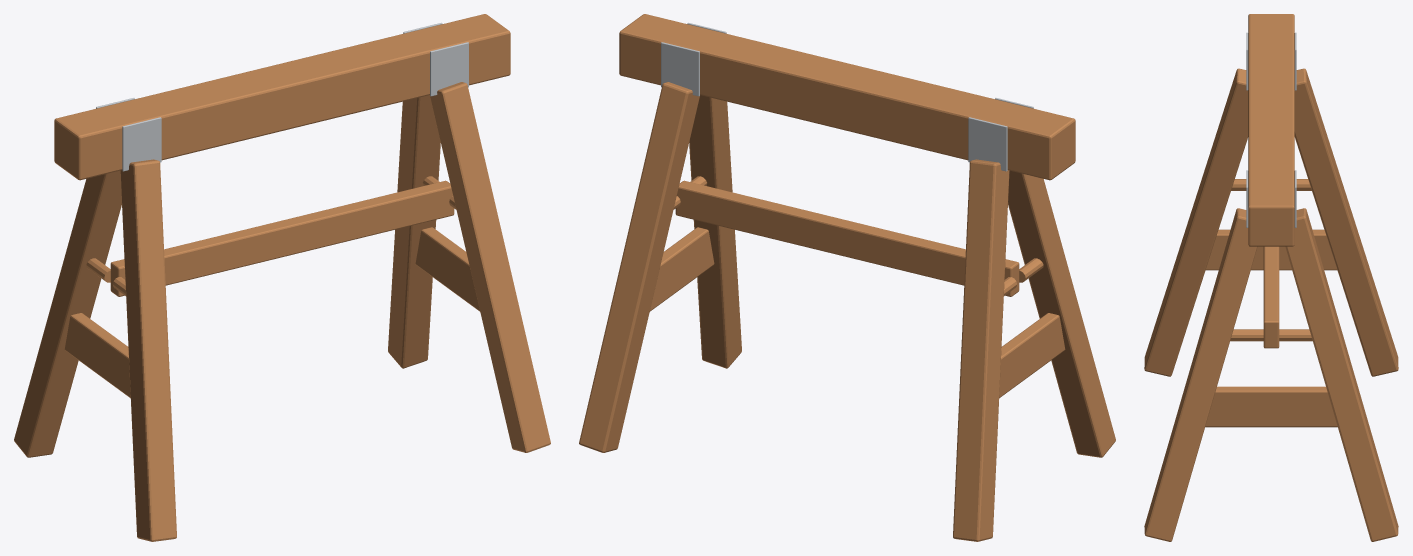
File: hh_cat_sawhorse.glb
3 views of the same model, side by side, from view 1: azimuth 30°, elevation 25°; view 2: azimuth 150°, elevation 25°; view 3: azimuth 270°, elevation 25° (orthographic). The views are drawn at different scales.
Visible parts, largest first — view 1: beam, leg, leg.002, stretcher, leg.001, leg.003, brace, brace.001, bracket, bracket.002; view 2: beam, leg.001, leg.003, stretcher, leg, leg.002, brace, brace.001, bracket.001, bracket.003; view 3: beam, leg.002, leg.003, leg, leg.001, brace.001, stretcher, brace, strut.002, strut.003.
Boxes of the visible parts, <box> form: beam: <box>54,14,510,180</box>; leg: <box>120,159,176,541</box>; leg.002: <box>430,82,550,452</box>; stretcher: <box>110,180,454,296</box>; leg.001: <box>14,170,121,457</box>; leg.003: <box>388,95,440,368</box>; brace: <box>64,313,130,397</box>; brace.001: <box>415,227,480,311</box>; bracket: <box>122,117,161,171</box>; bracket.002: <box>430,42,468,96</box>; beam: <box>619,14,1075,180</box>; leg.001: <box>953,159,1009,541</box>; leg.003: <box>579,82,699,452</box>; stretcher: <box>675,180,1019,296</box>; leg: <box>1008,170,1115,457</box>; leg.002: <box>689,95,741,368</box>; brace: <box>999,313,1065,397</box>; brace.001: <box>649,227,714,311</box>; bracket.001: <box>968,117,1007,171</box>; bracket.003: <box>661,42,699,96</box>; beam: <box>1248,14,1294,246</box>; leg.002: <box>1144,208,1257,541</box>; leg.003: <box>1285,208,1398,541</box>; leg: <box>1144,68,1248,376</box>; leg.001: <box>1294,68,1398,376</box>; brace.001: <box>1205,386,1337,427</box>; stretcher: <box>1263,246,1279,348</box>; brace: <box>1205,229,1337,270</box>; strut.002: <box>1230,329,1263,341</box>; strut.003: <box>1279,329,1312,341</box>.
Bounding box in the file's own units: 0.9 × 0.75 × 0.5.
